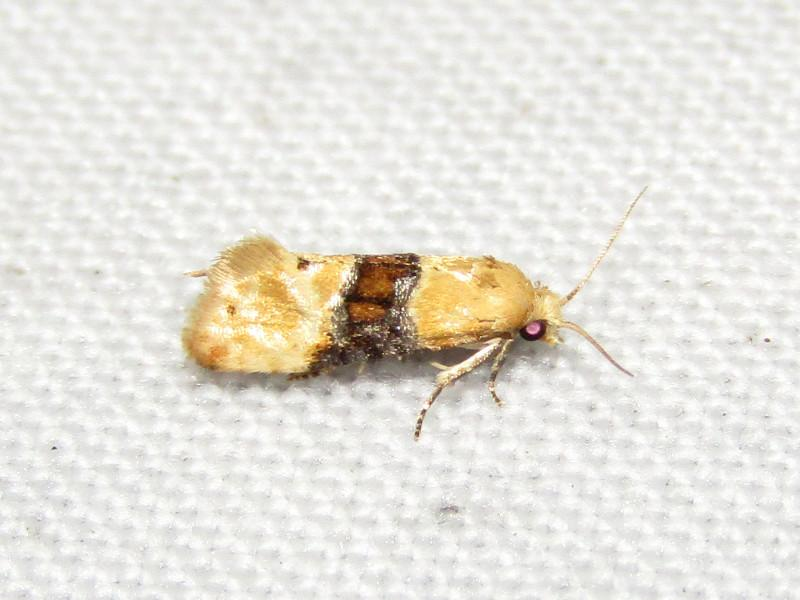Eupoecilia Ambiguella: (178, 181, 651, 443)
